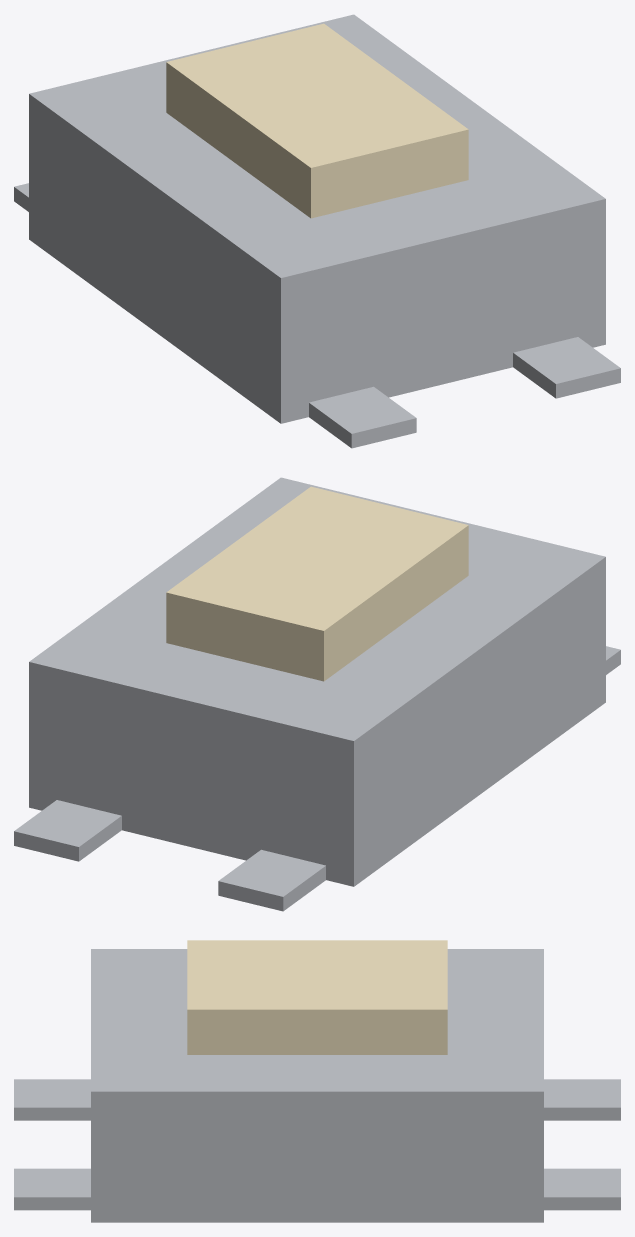
The model's file is tactile-switch-smd.glb.
The picture shows the model from 3 angles, top to bottom: view 1: azimuth 30°, elevation 25°; view 2: azimuth 150°, elevation 25°; view 3: azimuth 270°, elevation 25°; orthographic projection. The views are drawn at different scales.
Visible parts, largest first — view 1: object 1, button; view 2: object 1, button; view 3: object 1, button.
Boxes of the visible parts, box(x1,y1,x2,y2) form: object 1: box(14, 14, 620, 448); button: box(166, 23, 468, 218); object 1: box(14, 477, 620, 911); button: box(166, 486, 468, 681); object 1: box(14, 949, 620, 1222); button: box(187, 940, 447, 1054).
Bounding box in the file's own units: 0.0035 × 0.00202 × 0.0063.
